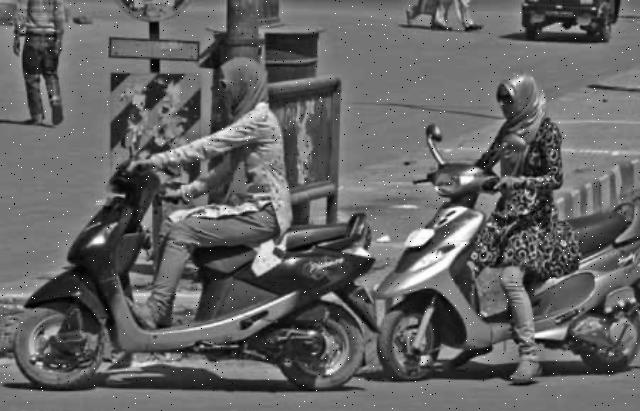Without Helmet: (212, 53, 274, 119), (488, 67, 558, 125)
